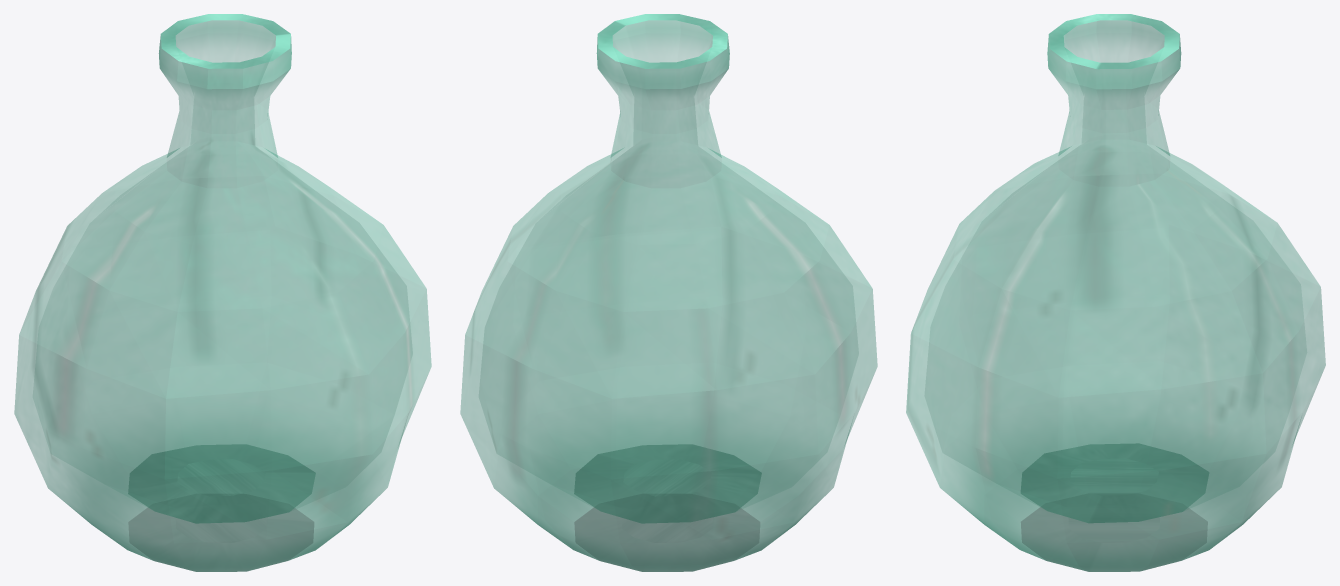
File: Garrafa-Pocao-Estriada.glb
3 renders of one model, left to right at view 1: azimuth 30°, elevation 25°; view 2: azimuth 150°, elevation 25°; view 3: azimuth 270°, elevation 25°, orthographic.
Parts seen in each view (by area): view 1: Poção estriada; view 2: Poção estriada; view 3: Poção estriada.
Boxes of the visible parts, x1=… form: Poção estriada: x1=14, y1=14, x2=431, y2=571; Poção estriada: x1=460, y1=14, x2=877, y2=571; Poção estriada: x1=906, y1=14, x2=1325, y2=571.
Bounding box in the file's own units: 0.0872 × 0.113 × 0.0872.
Materials: 1 (1 with a texture image).
